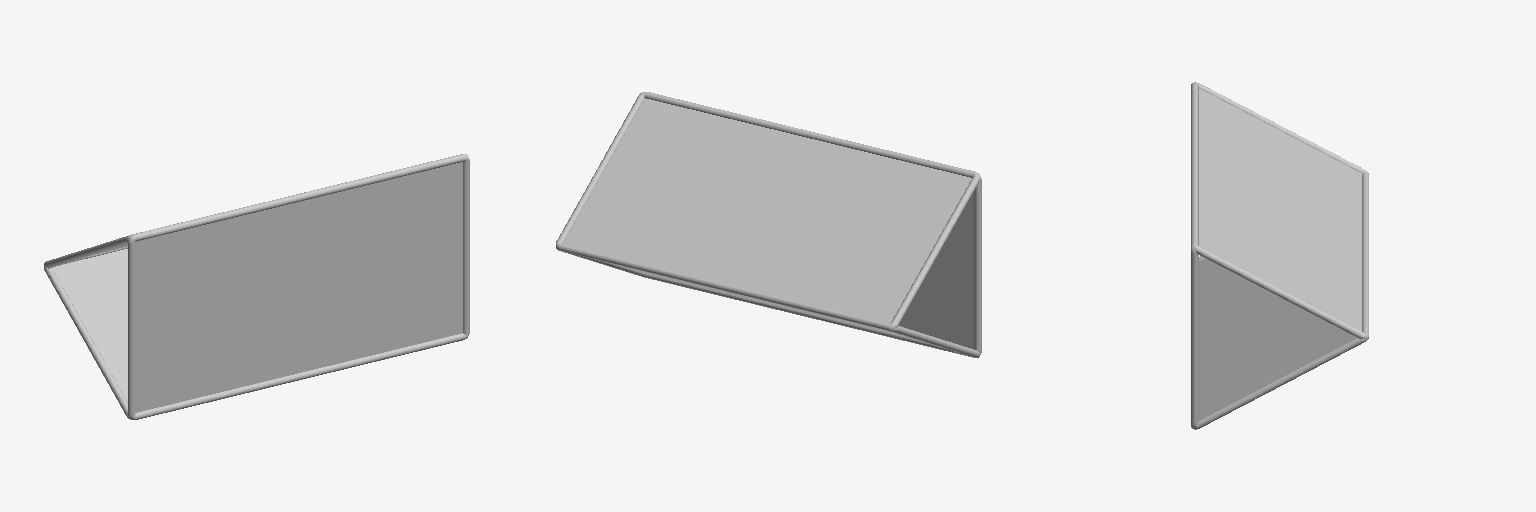
The model's file is bouy.obj.
3 views of the same model, side by side, from view 1: azimuth 30°, elevation 25°; view 2: azimuth 150°, elevation 25°; view 3: azimuth 270°, elevation 25° (orthographic).
Visible parts, largest first — view 1: Bouy; view 2: Bouy; view 3: Bouy.
Boxes of the visible parts, <box> form: Bouy: <box>44,154,469,419</box>; Bouy: <box>556,92,981,357</box>; Bouy: <box>1191,82,1368,429</box>.
Bounding box in the file's own units: 6.19 × 3.22 × 2.8.